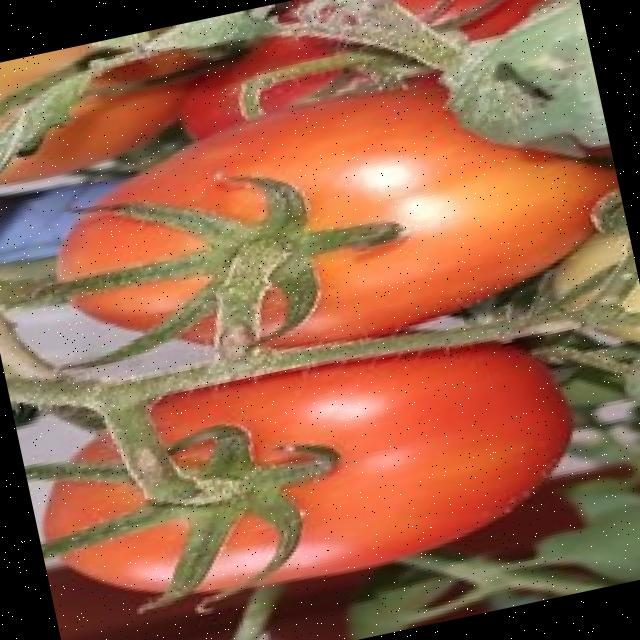tomato: (102, 84, 618, 346), (150, 342, 568, 582)
